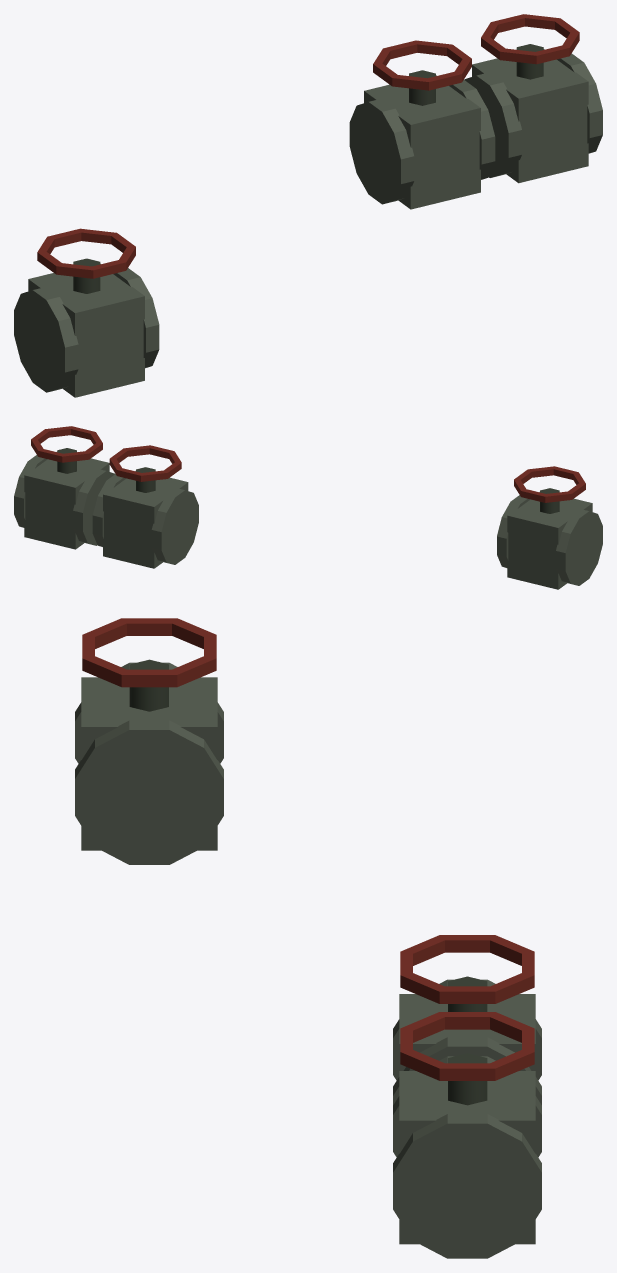
File: ko600_valves.obj
The picture shows the model from 3 angles, top to bottom: view 1: azimuth 30°, elevation 25°; view 2: azimuth 150°, elevation 25°; view 3: azimuth 270°, elevation 25°; orthographic projection. The views are drawn at different scales.
Visible parts, largest first — view 1: ko600_valves; view 2: ko600_valves; view 3: ko600_valves.
Part boxes in pixels (x1=…): ko600_valves: x1=14, y1=14, x2=602, y2=397; ko600_valves: x1=14, y1=426, x2=602, y2=589; ko600_valves: x1=75, y1=618, x2=541, y2=1258.
Bounding box in the file's own units: 2.4 × 0.4492 × 1.03.
